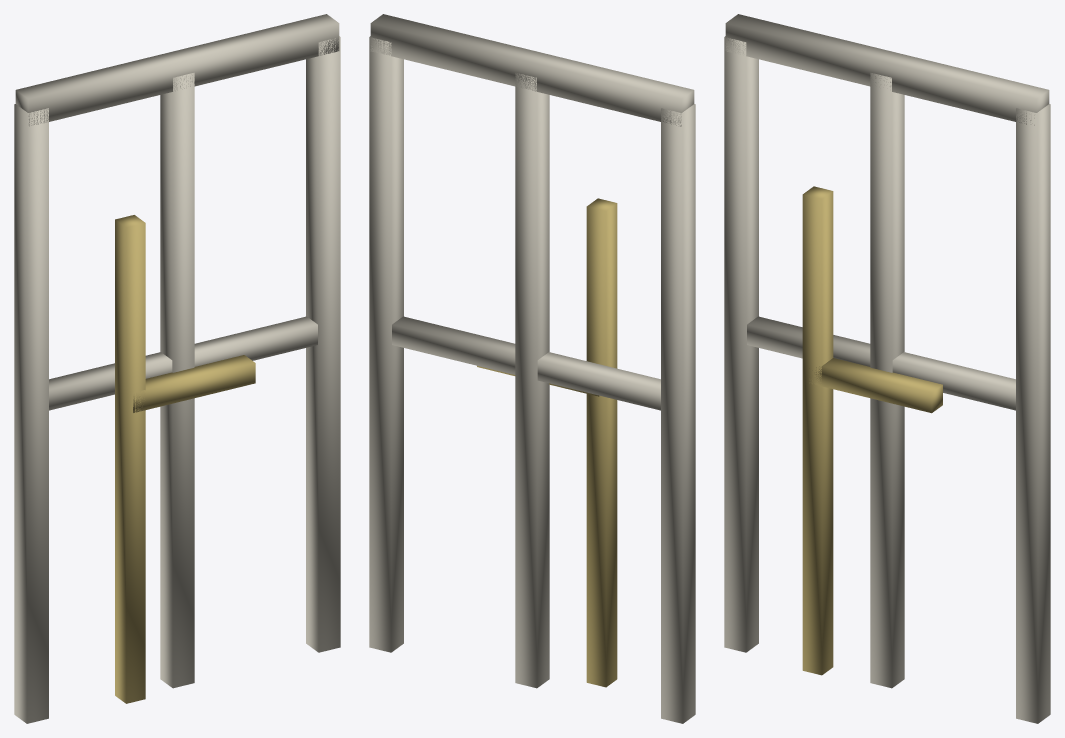
File: civic_gate_l60_h120.glb
3 renders of one model, left to right at view 1: azimuth 30°, elevation 25°; view 2: azimuth 150°, elevation 25°; view 3: azimuth 330°, elevation 25°, orthographic.
Parts seen in each view (by area): view 1: world; view 2: world; view 3: world.
Part boxes in pixels (<box>): world: <box>14,14,340,723</box>; world: <box>369,14,695,723</box>; world: <box>724,14,1050,723</box>.
Bounding box in the file's own units: 0.645 × 1.23 × 0.0825.
